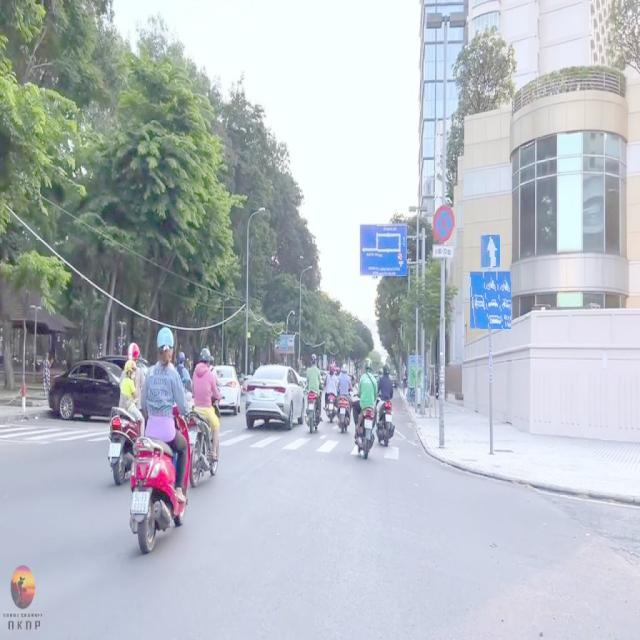cam_dung_xe_va_do_xe: (433, 205, 455, 242)
duong_mot_chieu: (481, 235, 500, 267)
khac: (360, 224, 407, 275), (433, 246, 453, 258)
lan_duong_cho_tung_xe_theo_vach_ke_duong: (469, 272, 511, 329)
